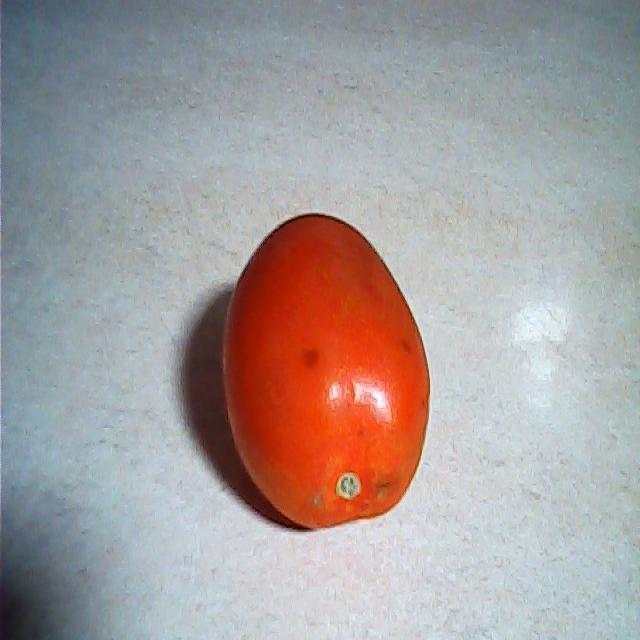maduro: (212, 212, 432, 534)
